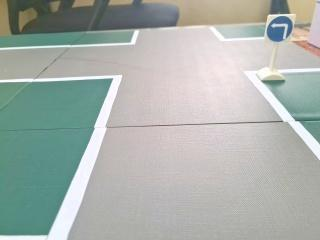left: (266, 14, 293, 44)
